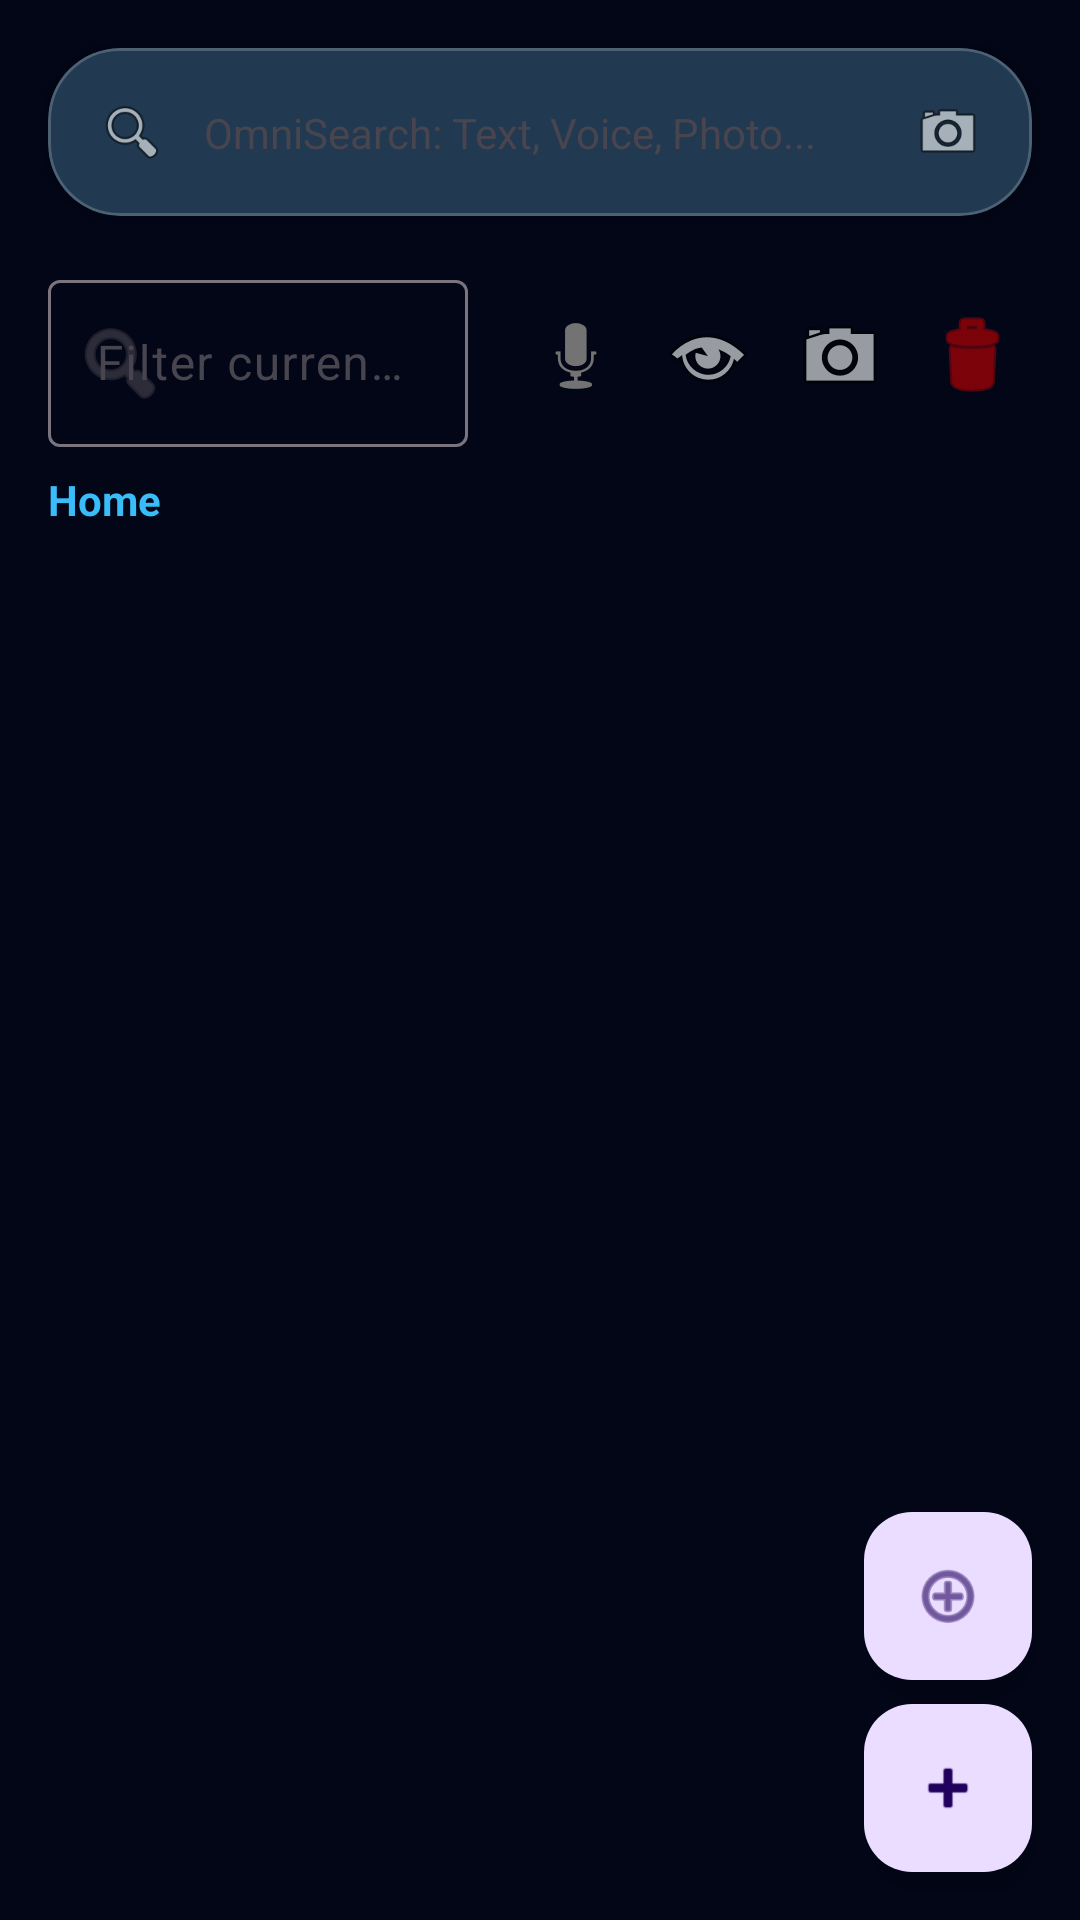

Icons on this 1080x1920 Android screen, each with the point to tap as [x,y]:
Add Item: [948,1788]
camera: [948,130]
Clear All Data: [972,354]
Speech Search: [576,356]
